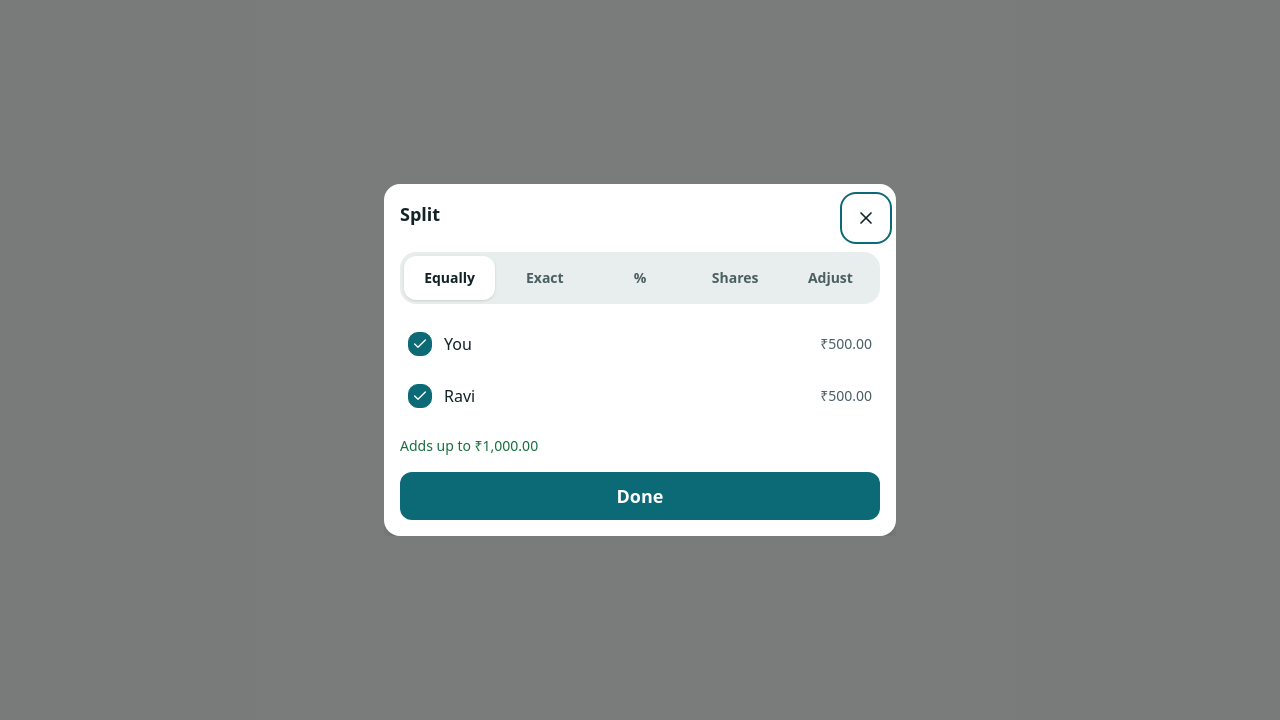
Test case: SplitSheet › adjustment mode: shows the equal remainder, then catches a negative share
Click the button "Adjust" at (830, 278), box top-left (785, 256), bottom-right (876, 300)
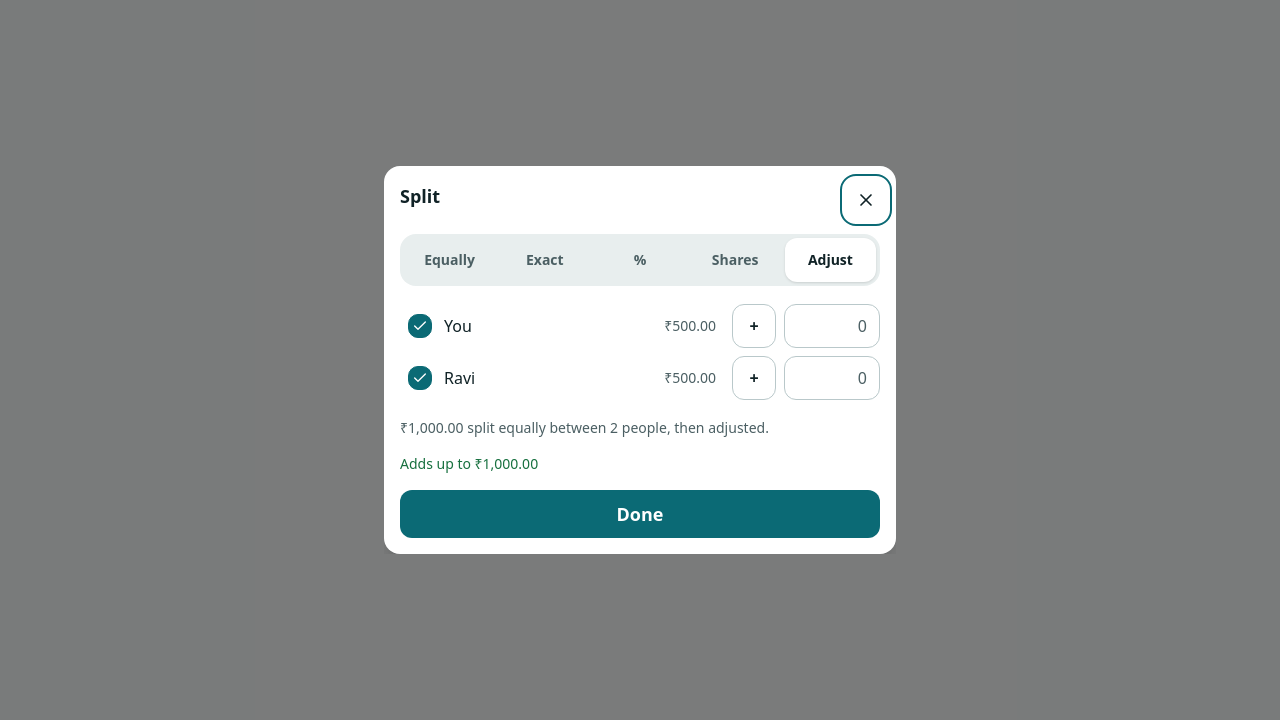
Type "200" into the field named "Ravi adjustment" at (832, 378), box top-left (784, 356), bottom-right (880, 400)
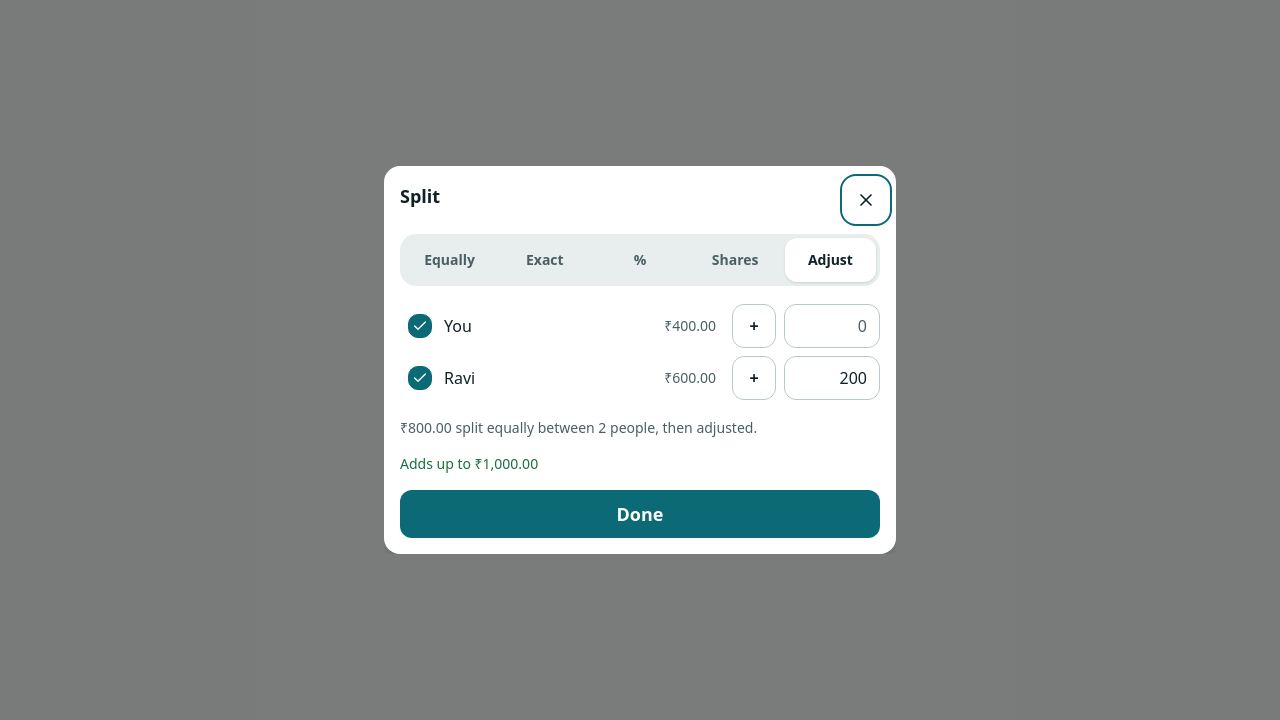
expect the text "₹800.00 split equally between 2 people, then adjusted." is shown: met, box top-left (400, 418), bottom-right (757, 437)
expect the checkbox labelled "You ₹400.00" is shown: met, box top-left (400, 304), bottom-right (724, 348)
expect the checkbox labelled "Ravi ₹600.00" is shown: met, box top-left (400, 356), bottom-right (724, 400)
Type "1200" into the field named "You adjustment" at (832, 326), box top-left (784, 304), bottom-right (880, 348)
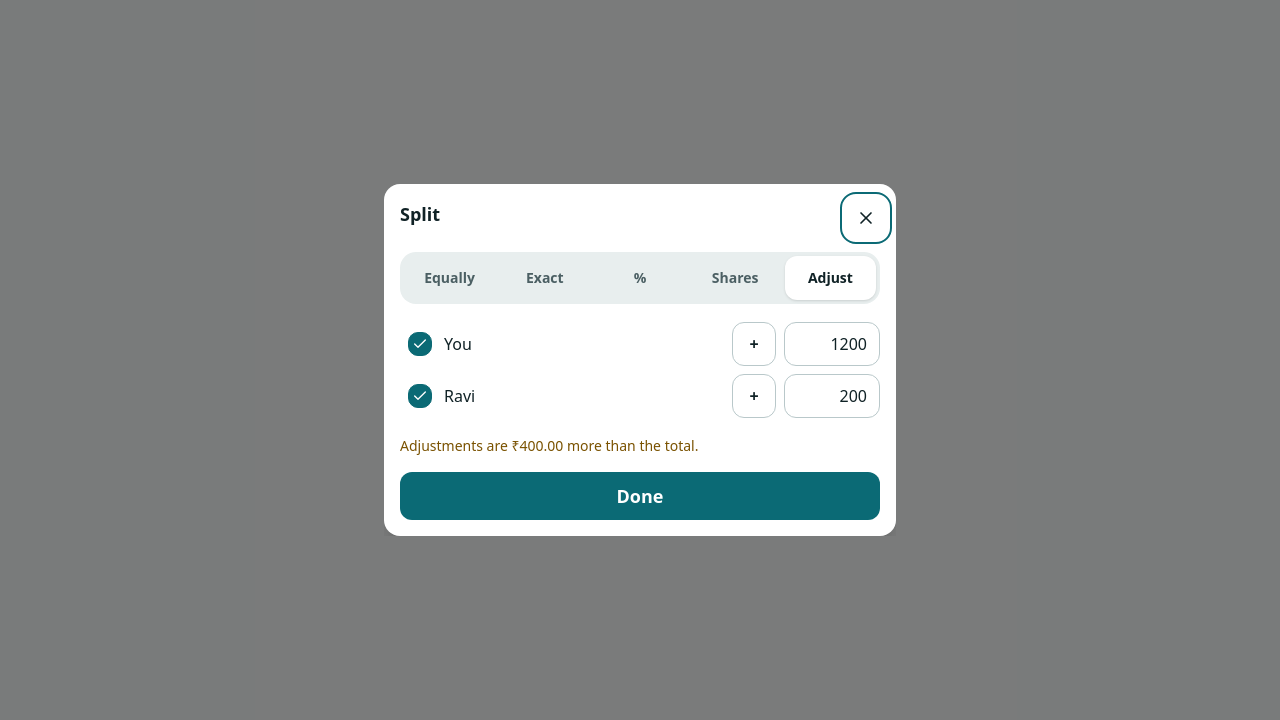
Click the button named "Make your adjustment negative" at (754, 344), box top-left (732, 322), bottom-right (776, 366)
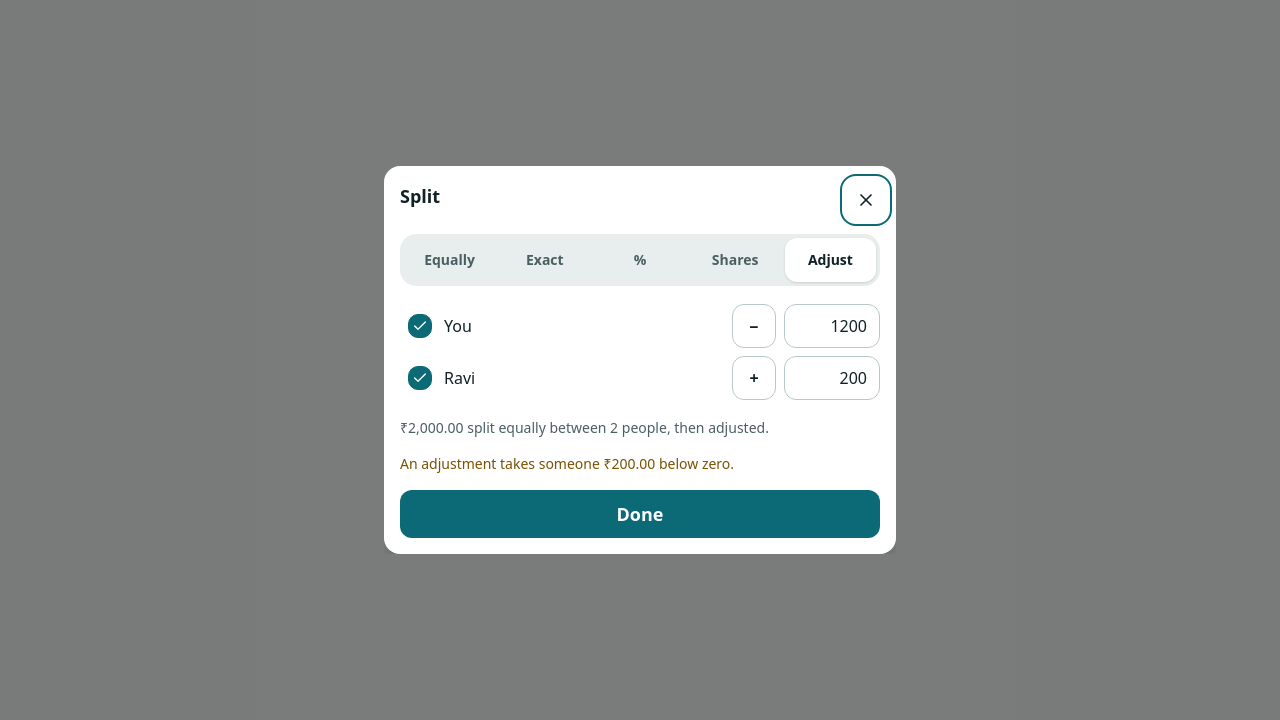
expect the text "An adjustment takes someone ₹200.00 below zero." is shown: met, box top-left (400, 454), bottom-right (734, 473)
Adjustments over the total are caught before that.
Click the button named "Make your adjustment positive" at (754, 326), box top-left (732, 304), bottom-right (776, 348)
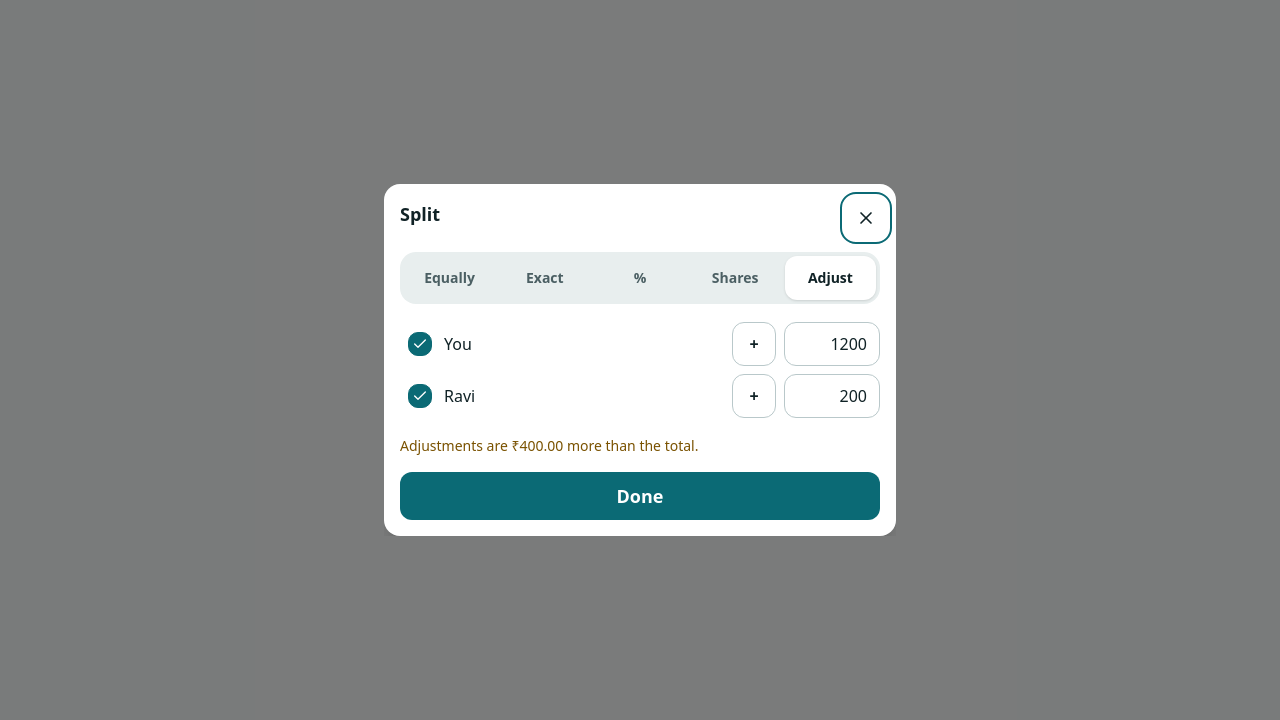
expect the text "Adjustments are ₹400.00 more than the total." is shown: met, box top-left (400, 436), bottom-right (698, 455)
